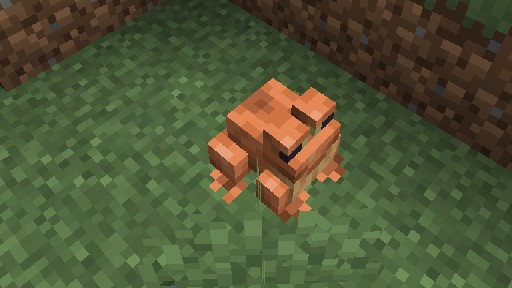frog: (206, 76, 346, 222)
